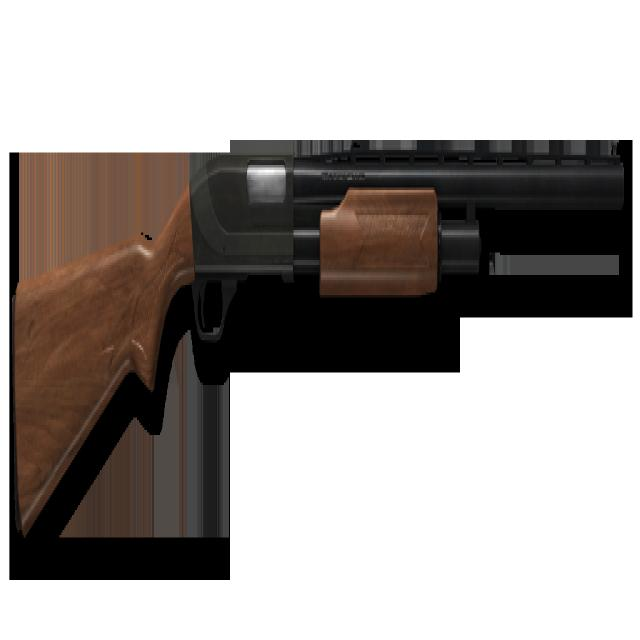ShotGun: (11, 160, 625, 538)
